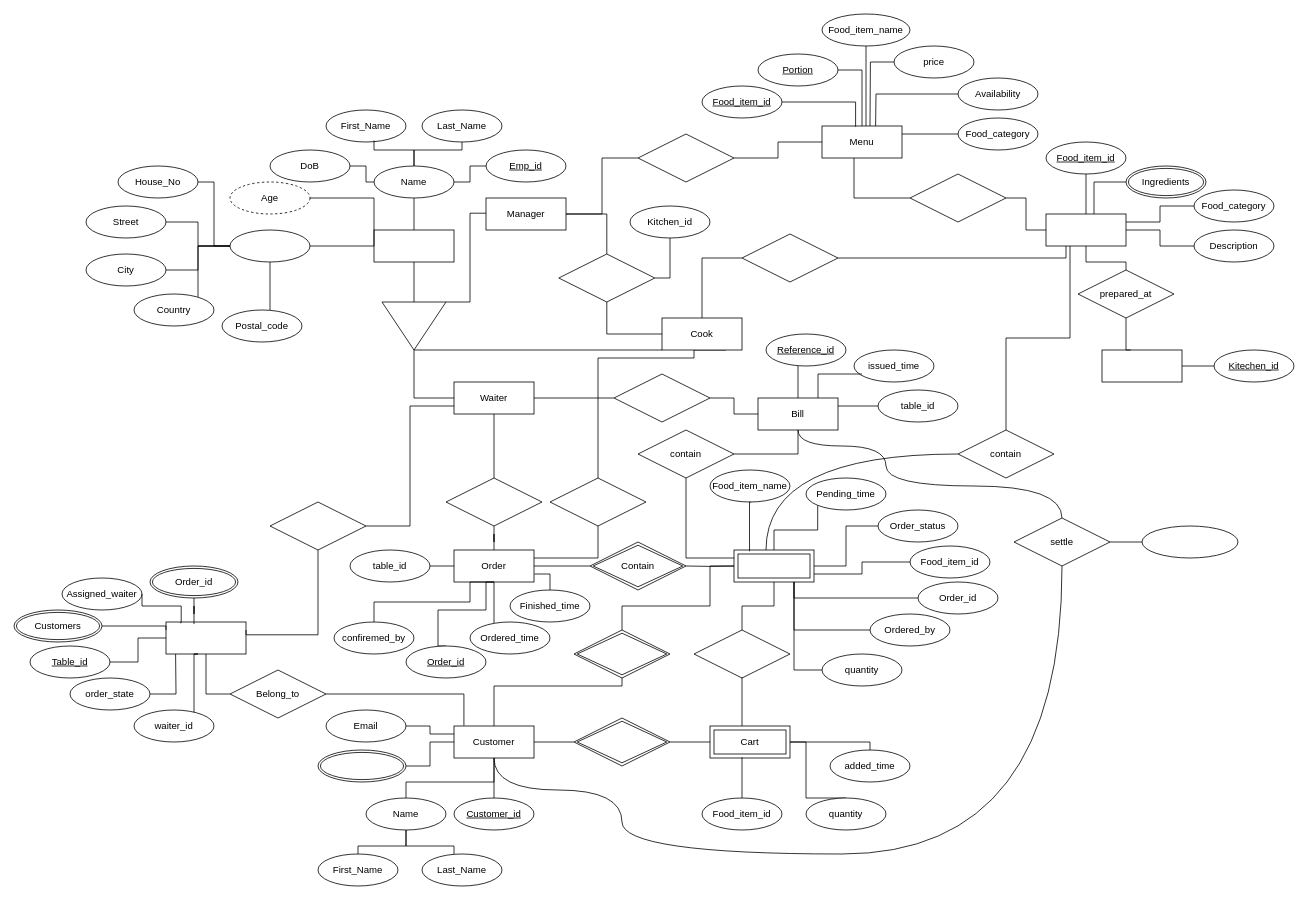
Image size: 1308x900. Some labels were removed from this diagram. Here are the shapes that lost their labels. From the top down, the centre of each, then its label:
point 685,157: create
point 957,197: consist
point 269,245: Address
point 413,245: Employee
point 1085,229: Food_item
point 606,277: assign
point 789,257: prepare
point 413,325: is_a
point 1141,365: Kitchen
point 661,397: bring
point 493,501: Confirm
point 597,501: take
point 317,525: assigned_to
point 1189,541: payement_method
point 773,565: Order_detail
point 205,637: Dining_table
point 621,653: check
point 741,653: send
point 621,741: add_to
point 361,765: Contact_Number
